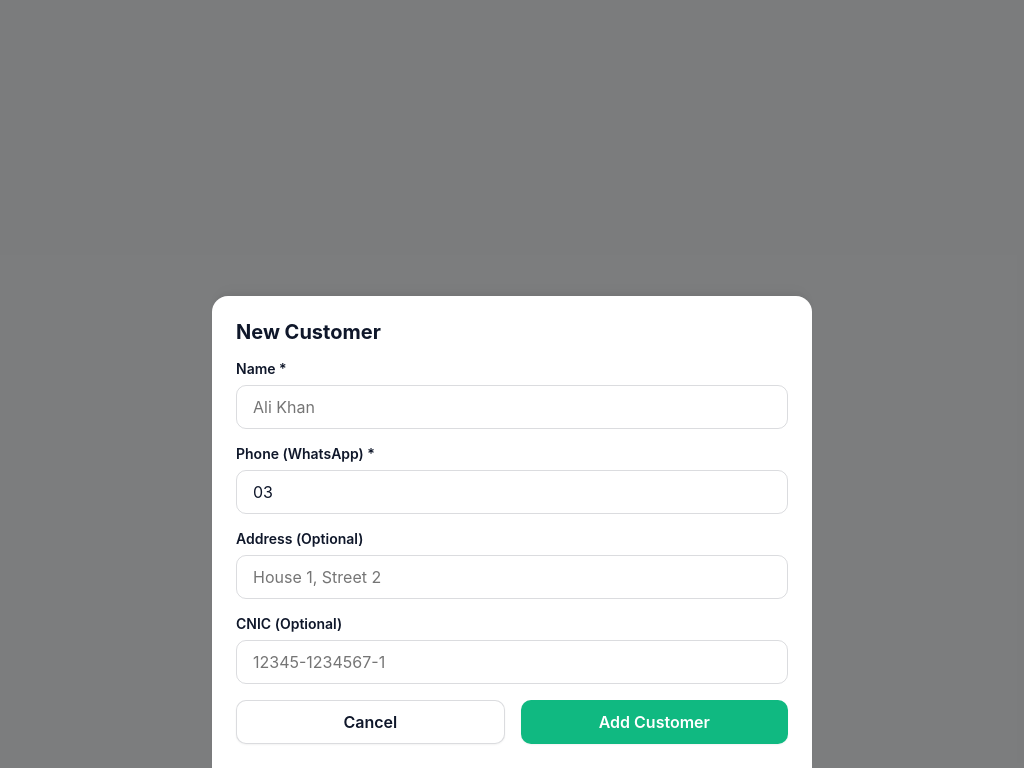
Test: NewCustomerForm (CustomerForm) › Name sanitization › strips digits from name field
Step 1. Type "Ali123 Khan" into the field labelled "Name *" → (512, 407), box [236,385,788,429]
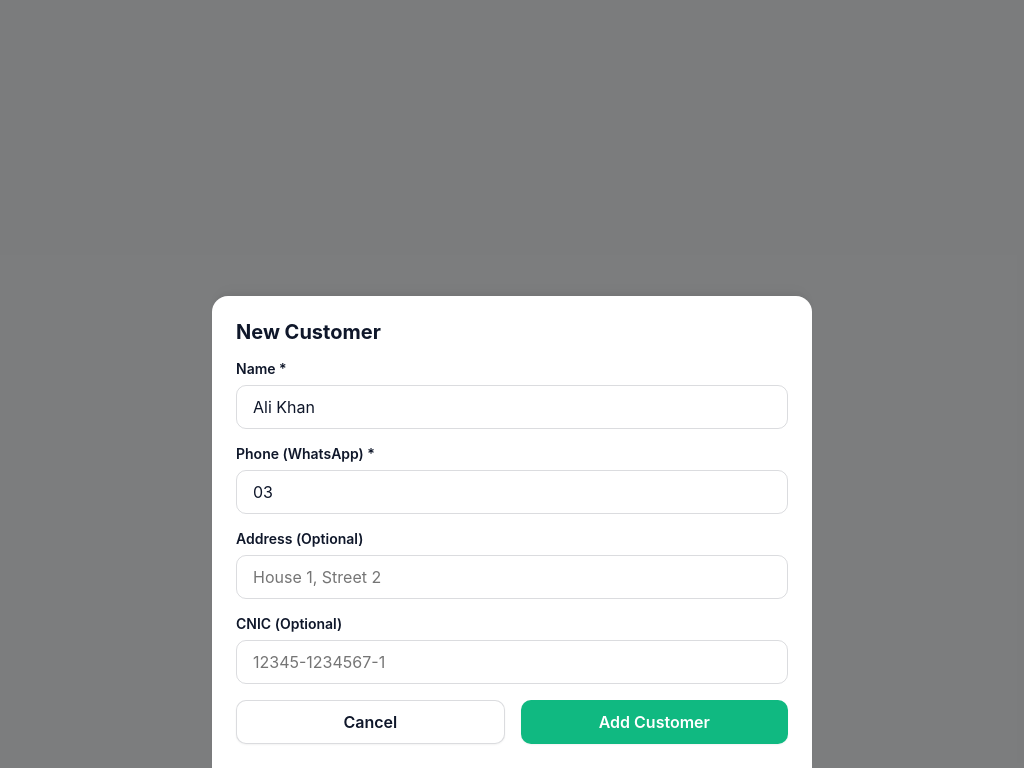
expect the field labelled "Name *" holds "Ali Khan": met, box [236,385,788,429]
